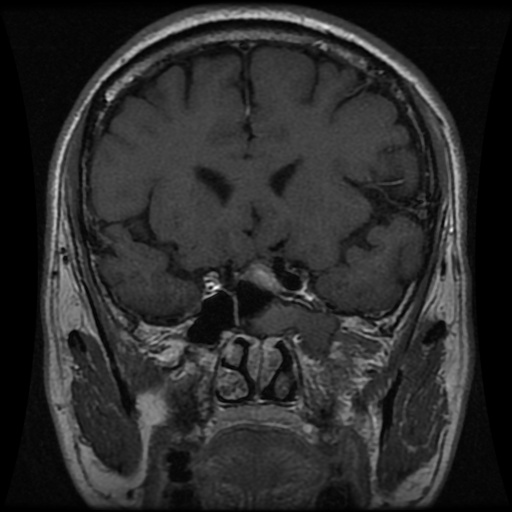pituitary: (244, 265, 280, 293)
